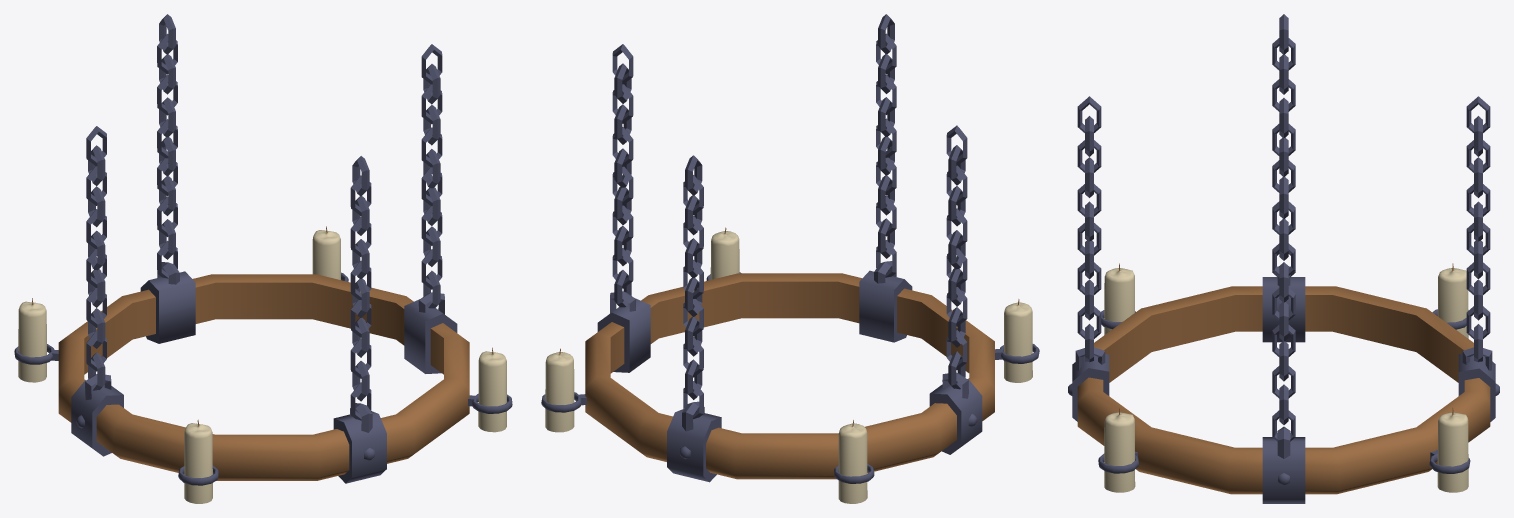
File: Chandelier.fbx
3 views of the same model, side by side, from view 1: azimuth 30°, elevation 25°; view 2: azimuth 150°, elevation 25°; view 3: azimuth 270°, elevation 25° (orthographic).
Parts seen in each view (by area): view 1: Chandelier, CandleChandelier; view 2: Chandelier, CandleChandelier; view 3: Chandelier, CandleChandelier.
Part boxes in pixels (x1,y1,x2,y2): Chandelier: [14, 14, 512, 485]; CandleChandelier: [18, 226, 506, 503]; Chandelier: [541, 14, 1039, 483]; CandleChandelier: [545, 227, 1032, 503]; Chandelier: [1068, 14, 1499, 503]; CandleChandelier: [1104, 263, 1468, 492].
Size of the model in its own units: 251 by 207 by 251.
Materials: 3 (3 with a texture image).
